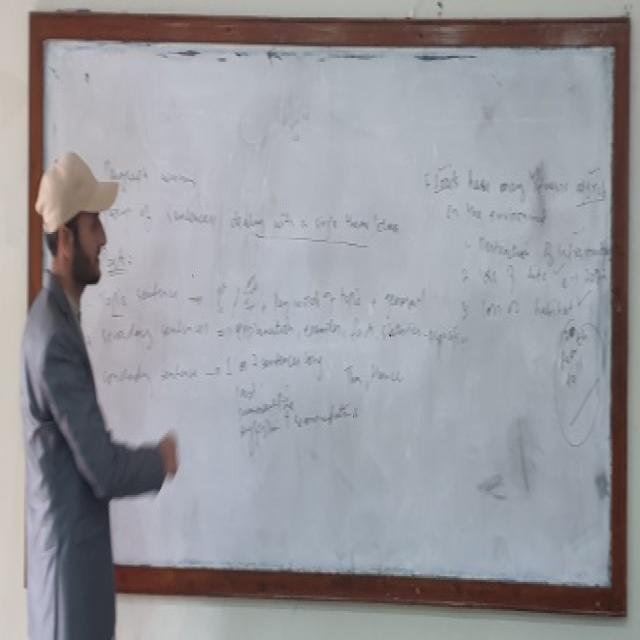Instructor: (13, 137, 122, 640)
White-board: (30, 21, 625, 607)
